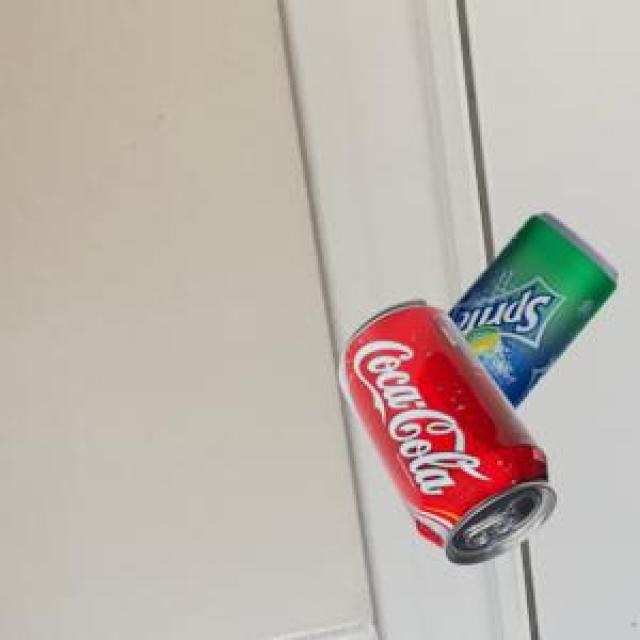logam: (336, 298, 554, 560), (445, 210, 613, 404)
